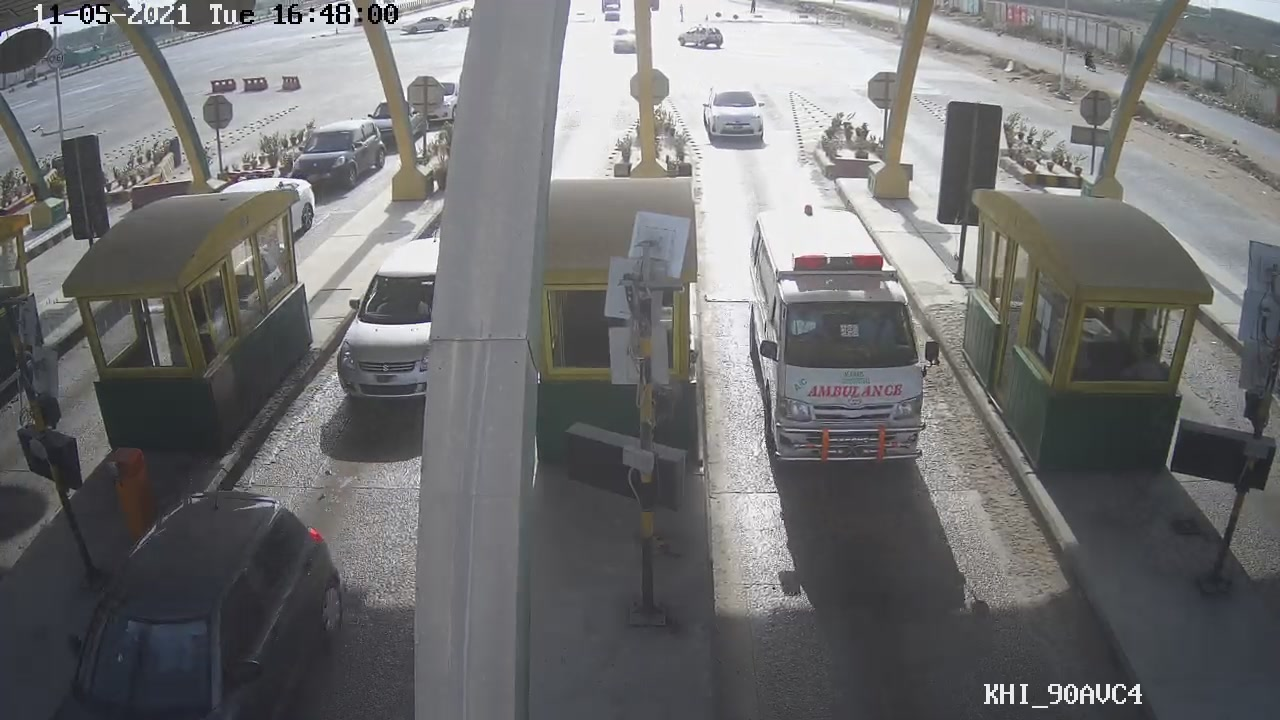F2: (737, 203, 962, 482)
